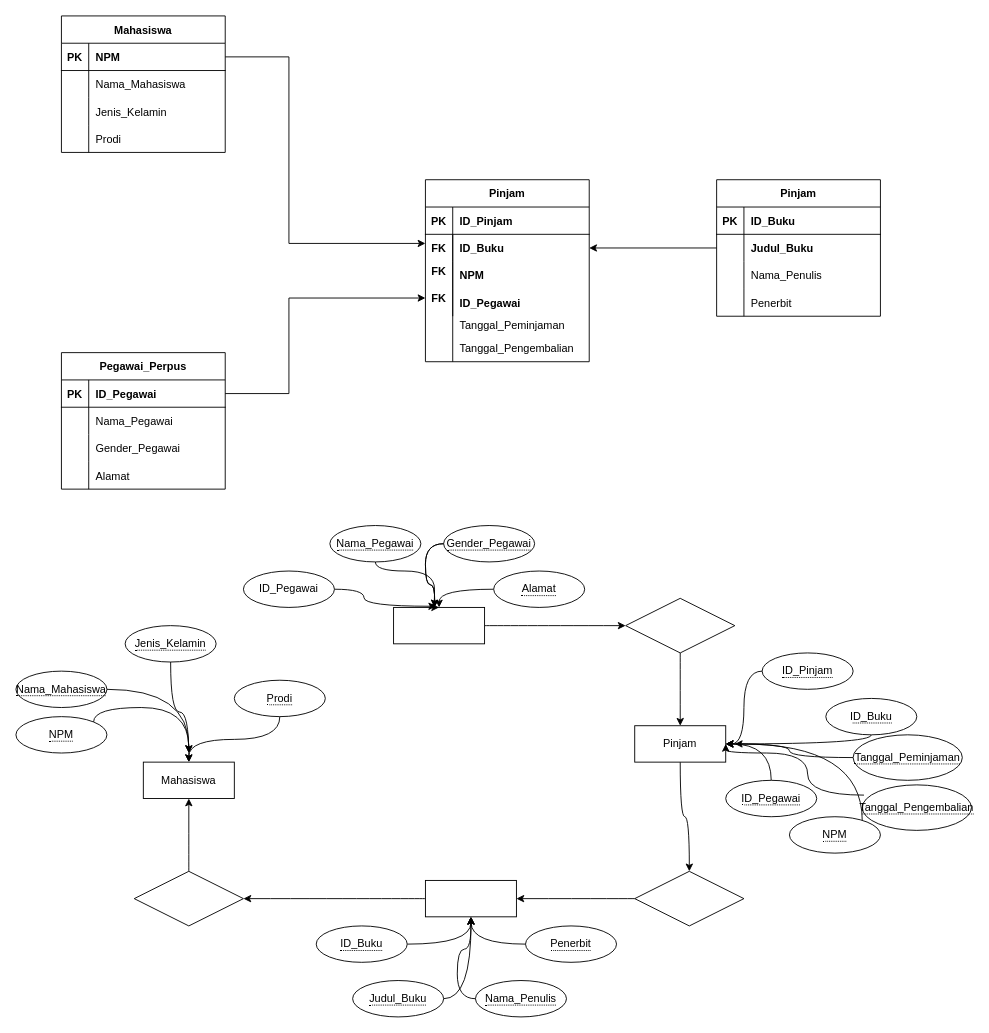
Image size: 989x1033. Some labels were removed from this diagram. Here are the shapes that lost their labels. From the top down, the centre of each, then its label:
At [439,625]: "Pegawai".
At [680,625]: "Menyerahkan".
At [188,898]: "Meminjam".
At [470,898]: "Buku".
At [689,898]: "Mencatat".
